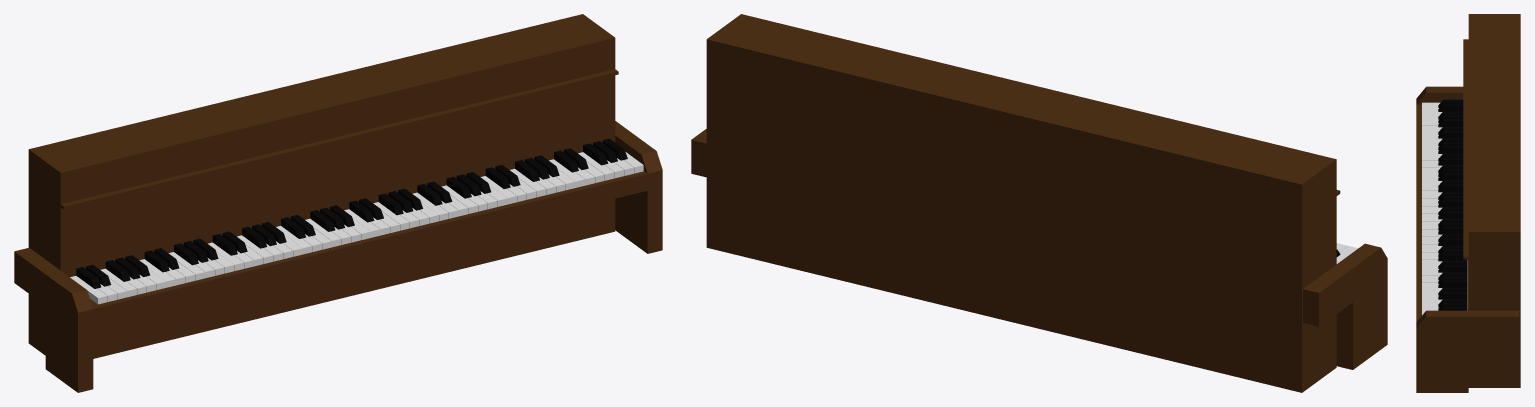
File: piano.fbx
3 renders of one model, left to right at view 1: azimuth 30°, elevation 25°; view 2: azimuth 150°, elevation 25°; view 3: azimuth 270°, elevation 25°, orthographic. The views are drawn at different scales.
Visible parts, largest first — view 1: Cube, Cube.001; view 2: Cube; view 3: Cube, Cube.001.
Boxes of the visible parts, x1,y1,x2,y2 form: Cube: [14, 14, 662, 392]; Cube.001: [70, 138, 643, 304]; Cube: [691, 14, 1387, 392]; Cube: [1416, 14, 1520, 392]; Cube.001: [1422, 99, 1467, 315].
Bounding box in the file's own units: 3207 × 1017 × 615.
